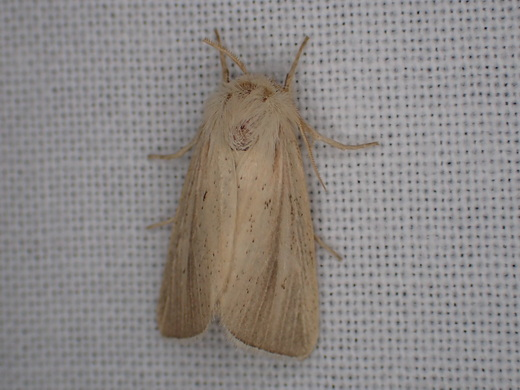Noctuidae: (145, 35, 383, 355)
